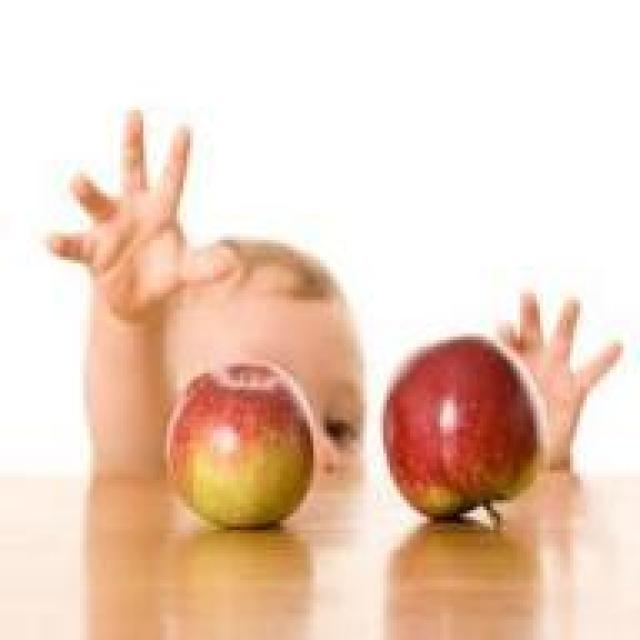apple: (383, 344, 550, 524), (170, 370, 320, 523)
